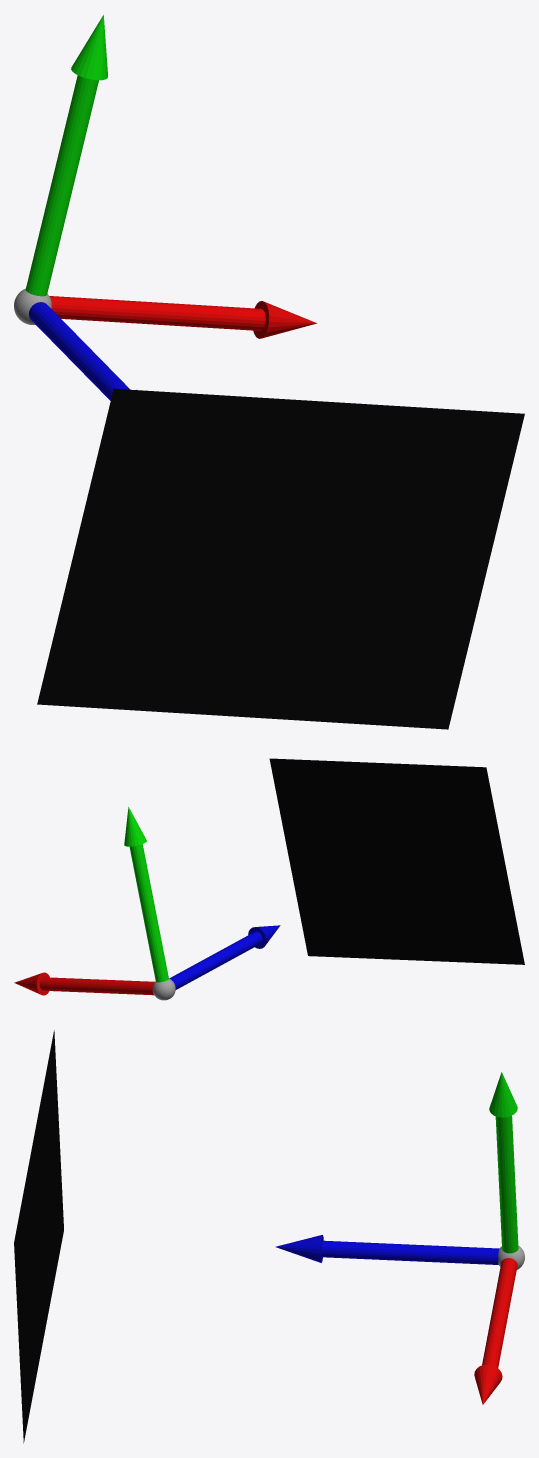
The picture shows the model from 3 angles, top to bottom: view 1: azimuth 30°, elevation 25°; view 2: azimuth 150°, elevation 25°; view 3: azimuth 270°, elevation 25°; orthographic projection. The views are drawn at different scales.
Bounding box in the file's own units: 0.2543 × 0.2109 × 0.2688.
